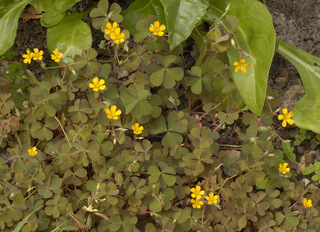oxalis: (12, 58, 269, 232)
